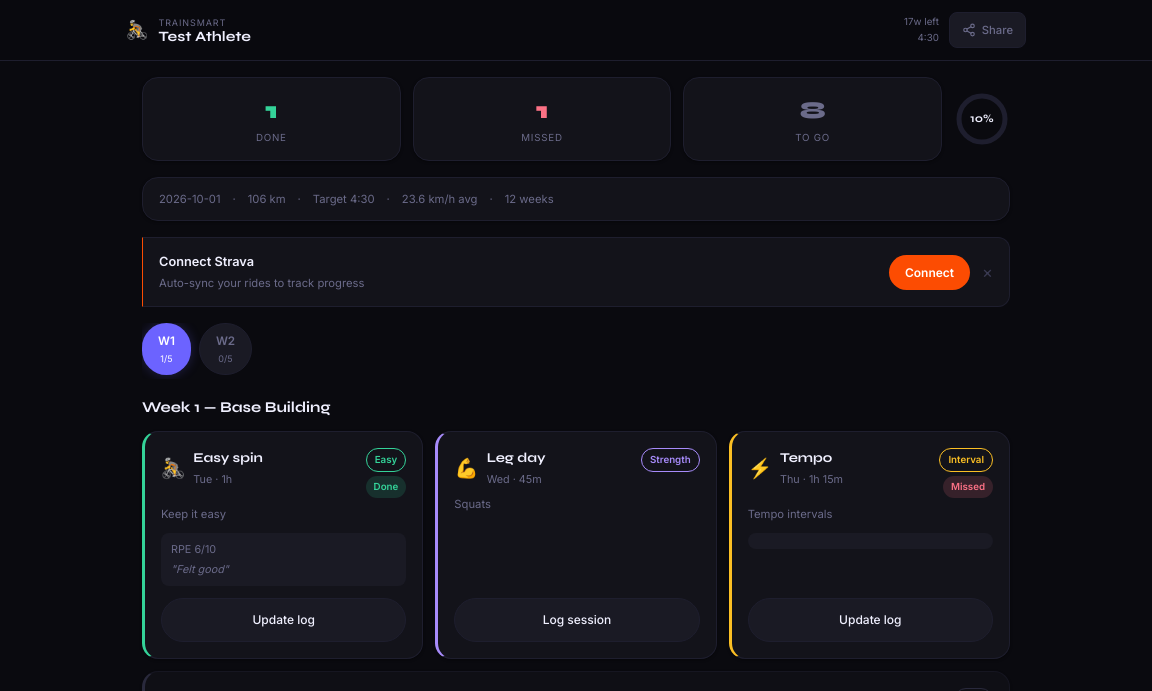
Test: DashboardPage › log modal opens on button click
Expected: the text "Easy spin" is shown, [193,448,263,470]
Click the button "Log session".
click(577, 620)  # box [454,598,700,642]
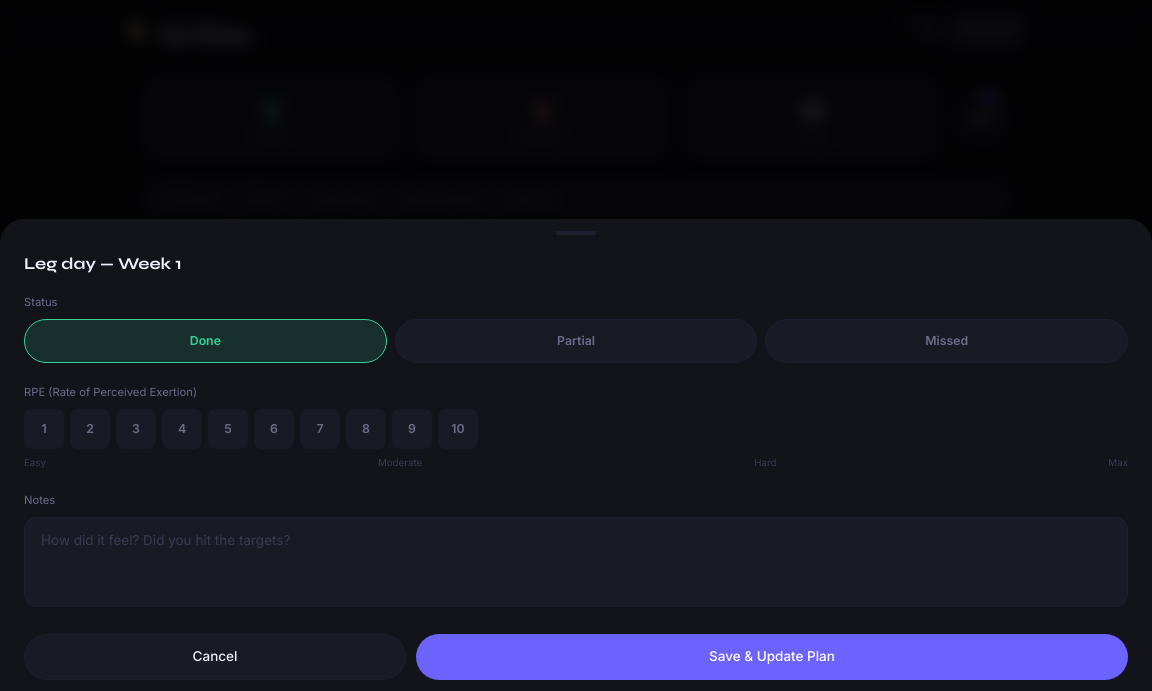
Expected: the button "Save & Update Plan" is shown, [416,634,1128,680]
